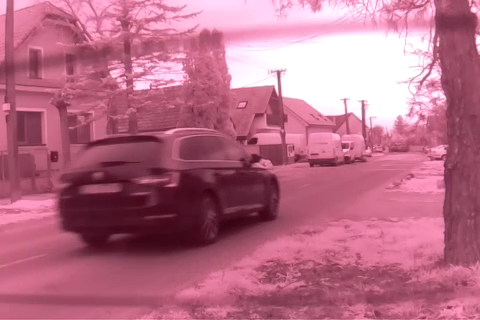car: (56, 124, 284, 244)
